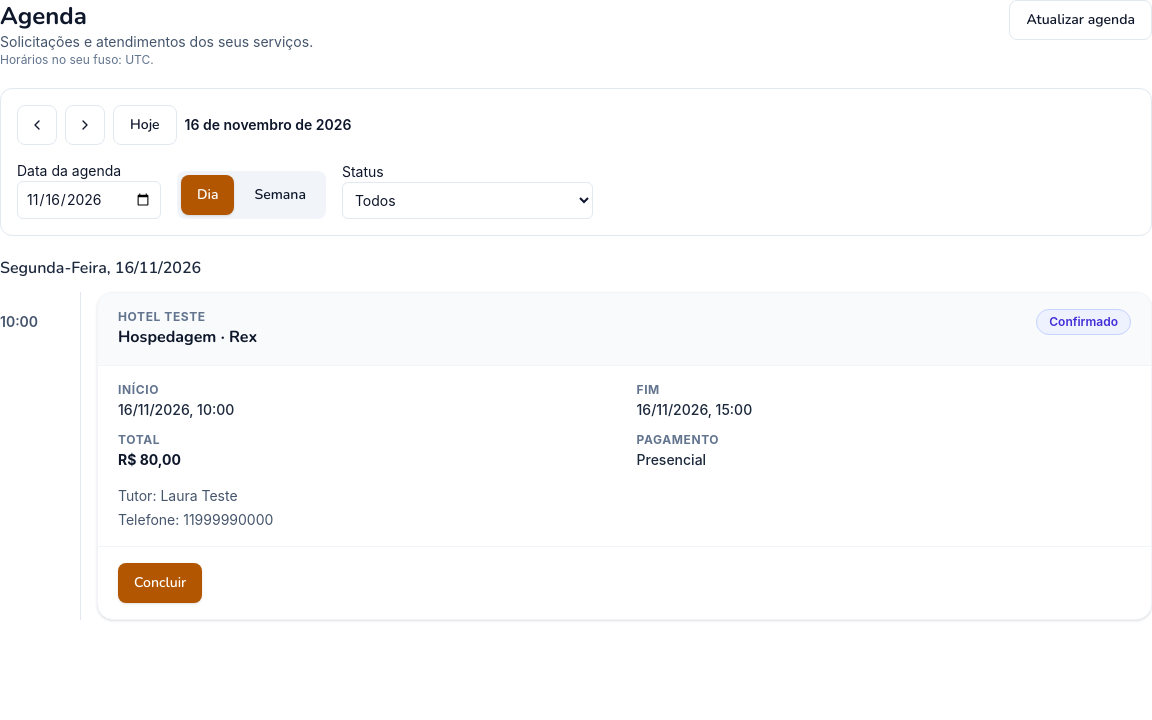
Test: conclui atendimento iniciado e não oferece cancelamento
This screenshot has width=1152, height=720.
Click the button "Concluir" at (160, 583), box [118,563,202,603]
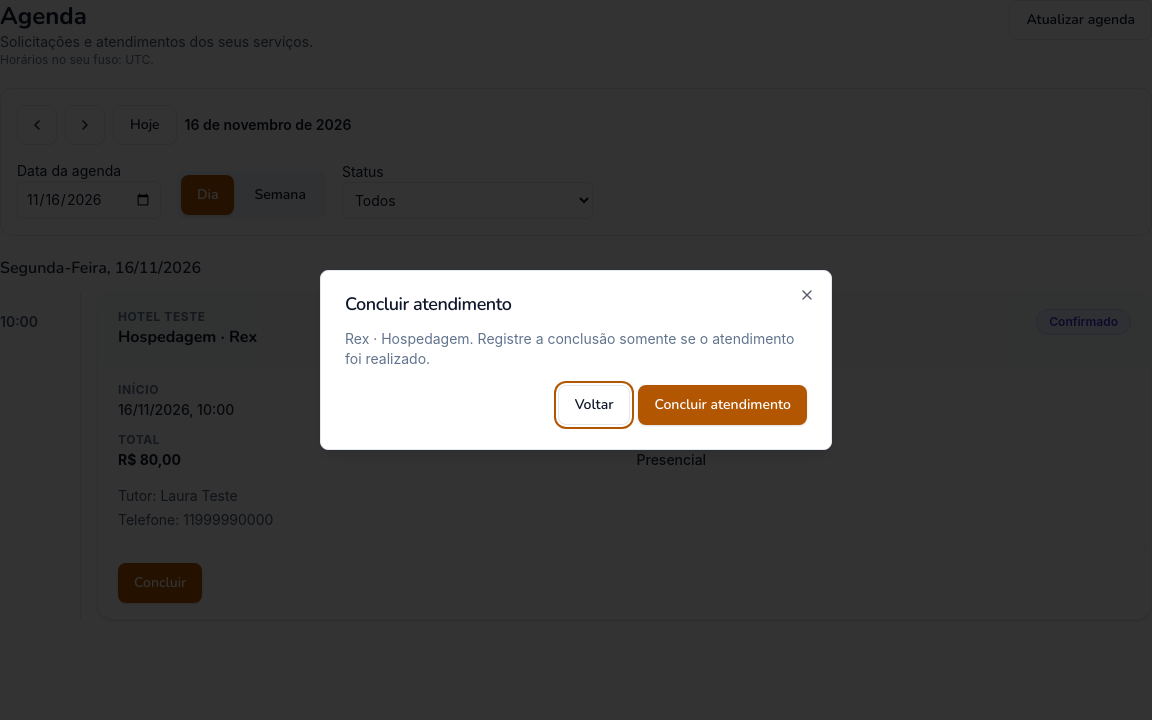
Click the button "Concluir atendimento" at (723, 405), box [638,385,807,425]
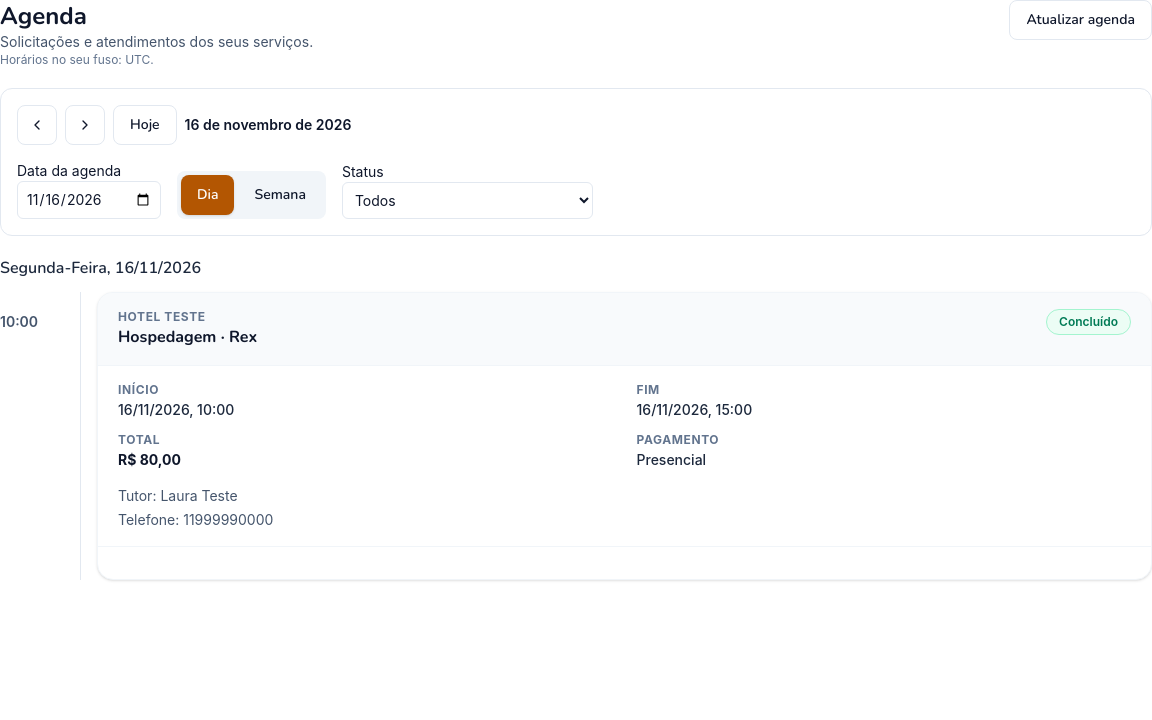
Expected: the text "Concluído" is shown, [1046,309,1131,335]
